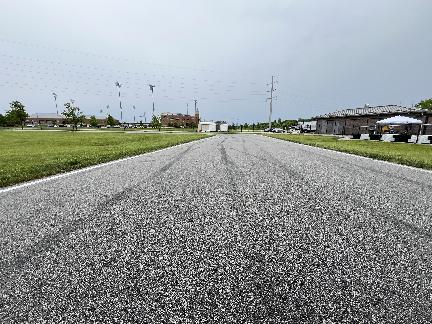Grass: (0, 131, 211, 186), (266, 134, 431, 169)
Lane: (0, 135, 431, 323)
